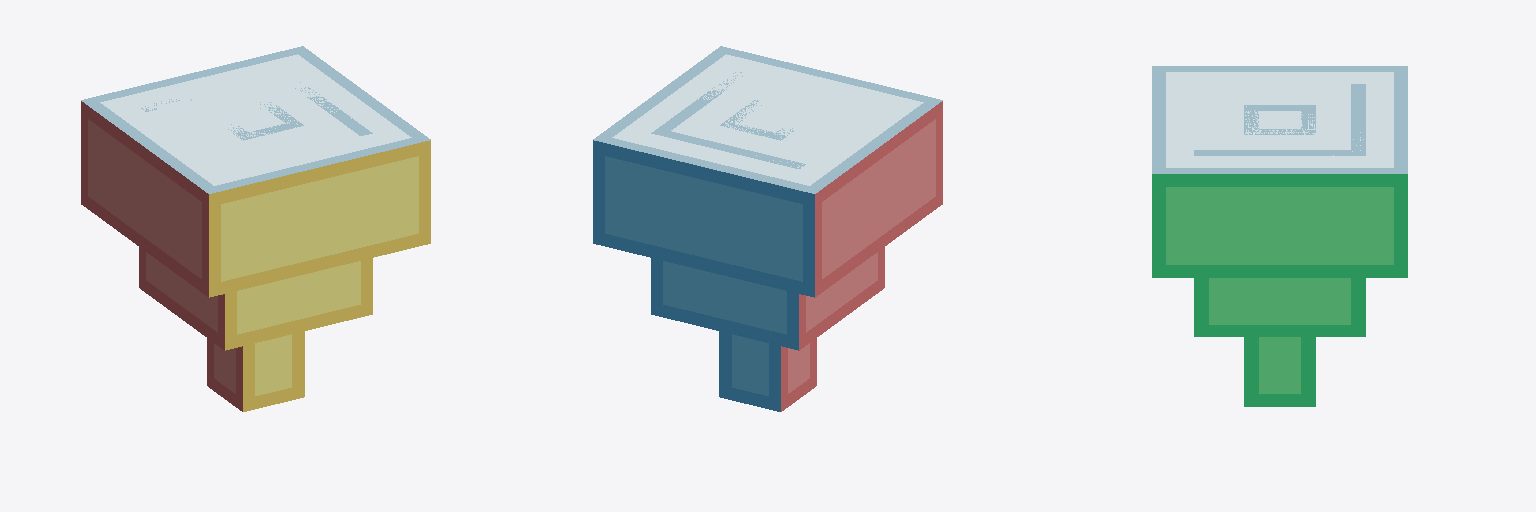
3 views of the same model, side by side, from view 1: azimuth 30°, elevation 25°; view 2: azimuth 150°, elevation 25°; view 3: azimuth 270°, elevation 25° (orthographic).
Parts seen in each view (by area): view 1: tornado_top, tornado_mid, tornado_bottom; view 2: tornado_top, tornado_mid, tornado_bottom; view 3: tornado_top, tornado_mid, tornado_bottom.
Part boxes in pixels (x1,y1,x2,y2): tornado_top: (81,46,430,297); tornado_mid: (139,247,372,350); tornado_bottom: (207,331,304,411); tornado_top: (593,46,942,297); tornado_mid: (651,247,884,350); tornado_bottom: (719,331,816,411); tornado_top: (1152,66,1407,277); tornado_mid: (1194,278,1365,336); tornado_bottom: (1244,337,1315,406).
Size of the model in its own units: 1.12 by 1.31 by 1.12.
1 materials, 1 textured.